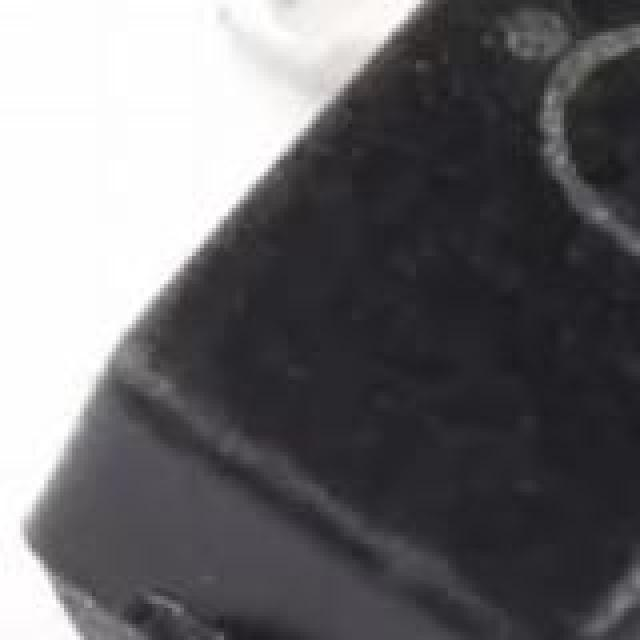transistor: (16, 0, 640, 640)
